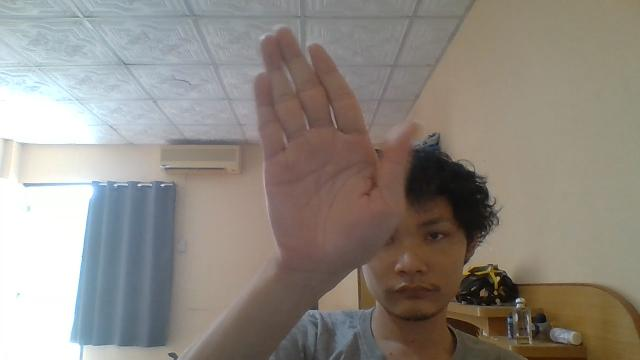Stop: (250, 24, 422, 284)
